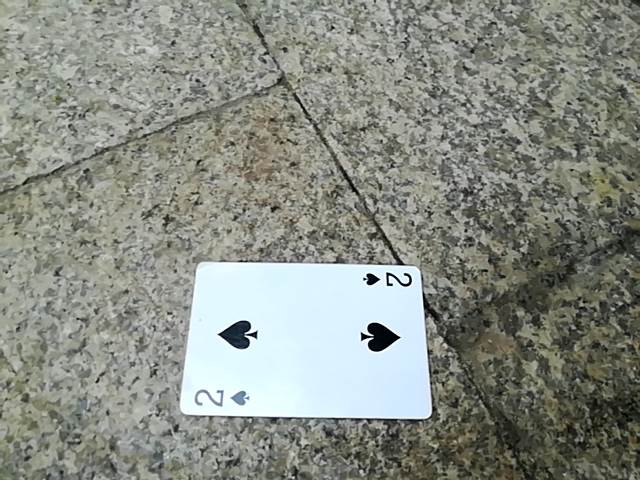ht 2: (160, 269, 423, 439)
